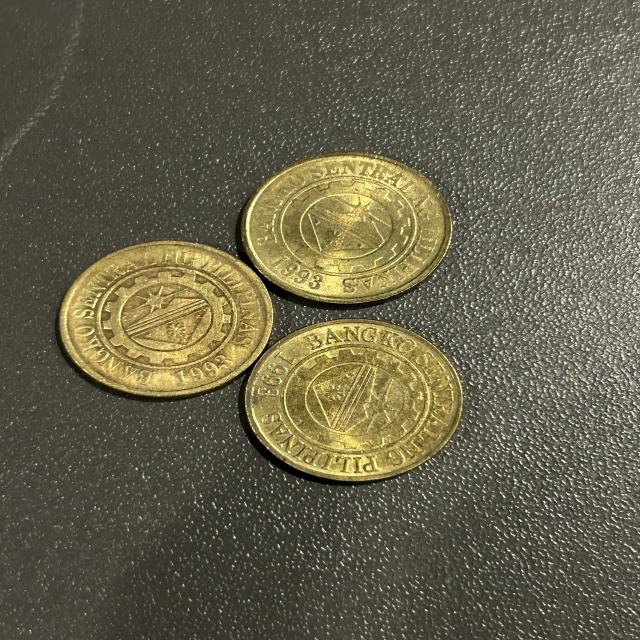25Cent_Old_Back: (246, 320, 464, 484), (61, 237, 272, 395)
